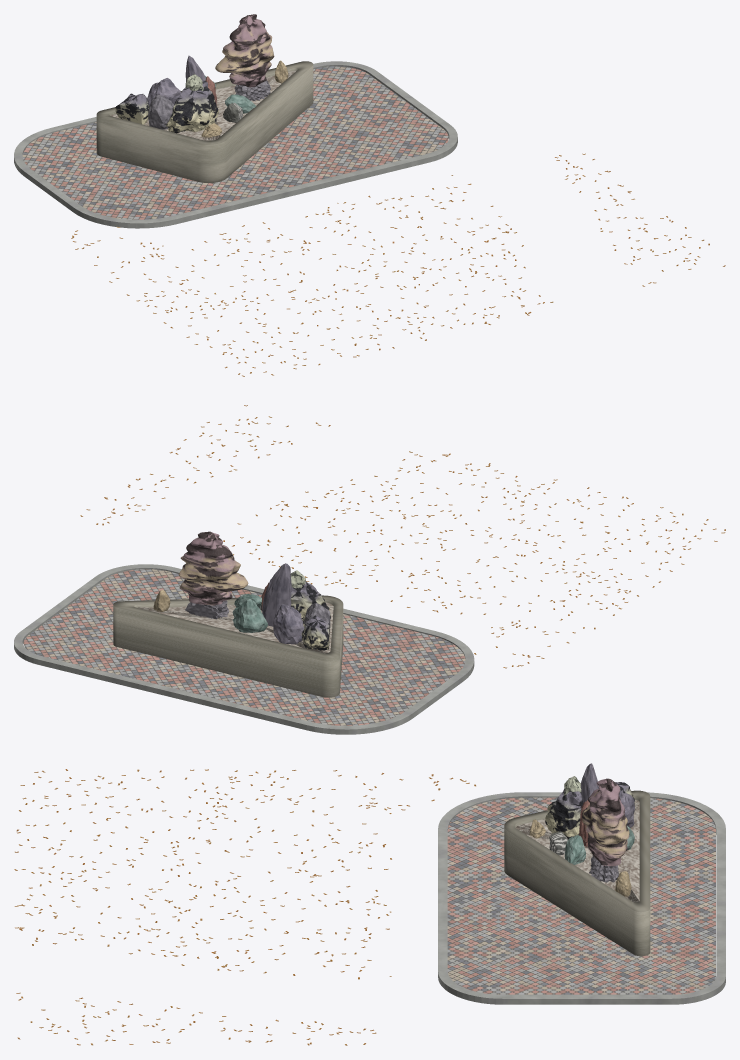
The model's file is kananatas.glb.
3 views of the same model, one above another, from view 1: azimuth 30°, elevation 25°; view 2: azimuth 150°, elevation 25°; view 3: azimuth 270°, elevation 25° (orthographic). The views are drawn at different scales.
Visible parts, largest first — view 1: Paving_Blocks, Planter_Wall, Paving_Curb, Fallen_Leaves, Rock_Right_Pagoda, Rock_Left_Mound, Planter_Soil, Rock_Back_Left_Corner, Rock_Back_Left_Mid; view 2: Paving_Blocks, Planter_Wall, Paving_Curb, Rock_Right_Pagoda, Fallen_Leaves, Planter_Soil, Rock_Left_Back_Peak, Rock_Back_CenterLeft, Rock_Back_CenterRight, Rock_Back_Left_Corner, Rock_Left_Mound, Rock_Right_Pedestal; view 3: Paving_Blocks, Planter_Wall, Paving_Curb, Fallen_Leaves, Rock_Right_Pagoda, Planter_Soil, Rock_Left_Mound, Rock_Front_Center_GreenSlab, Rock_Right_Pedestal, Rock_Left_Back_Peak.
Part boxes in pixels (left/top/right/bottom): Paving_Blocks: left=22, top=66, right=448, bottom=219; Planter_Wall: left=96, top=61, right=313, bottom=182; Paving_Curb: left=14, top=61, right=457, bottom=228; Fallen_Leaves: left=71, top=153, right=725, bottom=376; Rock_Right_Pagoda: left=215, top=14, right=274, bottom=87; Rock_Left_Mound: left=166, top=80, right=218, bottom=133; Planter_Soil: left=110, top=71, right=295, bottom=140; Rock_Back_Left_Corner: left=115, top=93, right=149, bottom=124; Rock_Back_Left_Mid: left=148, top=94, right=173, bottom=129; Paving_Blocks: left=23, top=569, right=465, bottom=725; Planter_Wall: left=113, top=595, right=343, bottom=697; Paving_Curb: left=14, top=564, right=474, bottom=734; Rock_Right_Pagoda: left=179, top=531, right=248, bottom=605; Fallen_Leaves: left=80, top=405, right=725, bottom=668; Planter_Soil: left=137, top=602, right=333, bottom=653; Rock_Left_Back_Peak: left=262, top=563, right=291, bottom=626; Rock_Back_CenterLeft: left=273, top=604, right=304, bottom=644; Rock_Back_CenterRight: left=232, top=599, right=267, bottom=632; Rock_Back_Left_Corner: left=301, top=615, right=329, bottom=650; Rock_Left_Mound: left=290, top=581, right=330, bottom=626; Rock_Right_Pedestal: left=185, top=600, right=228, bottom=619; Paving_Blocks: left=447, top=797, right=715, bottom=994; Planter_Wall: left=504, top=790, right=650, bottom=956; Paving_Curb: left=438, top=792, right=725, bottom=1004; Fallen_Leaves: left=14, top=769, right=475, bottom=1045; Rock_Right_Pagoda: left=582, top=778, right=629, bottom=866; Planter_Soil: left=516, top=799, right=639, bottom=902; Rock_Left_Mound: left=545, top=789, right=582, bottom=839; Rock_Front_Center_GreenSlab: left=564, top=835, right=585, bottom=864; Rock_Right_Pedestal: left=589, top=855, right=618, bottom=882; Rock_Left_Back_Peak: left=580, top=763, right=598, bottom=805.
Bounding box in the file's own units: 18.08 × 4.21 × 19.66.
Materials: 14 (14 with a texture image).
